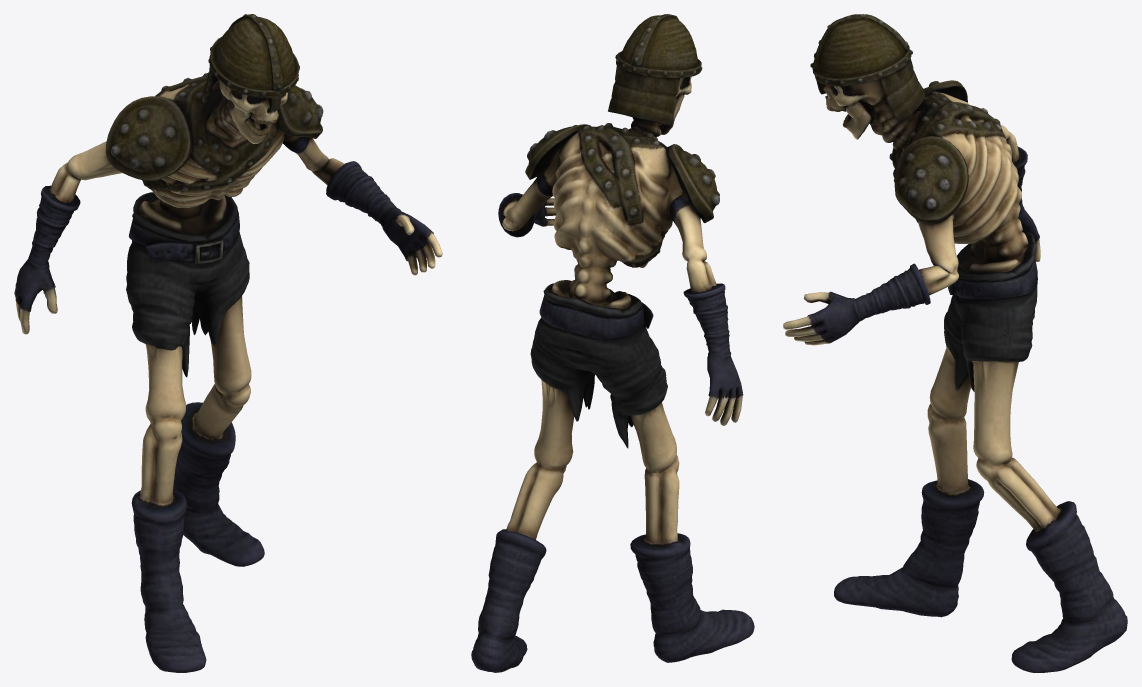
Rendered from MZ4250 - Skeleton_alt.glb.
3 renders of one model, left to right at view 1: azimuth 30°, elevation 25°; view 2: azimuth 150°, elevation 25°; view 3: azimuth 270°, elevation 25°, orthographic. The views are drawn at different scales.
Visible parts, largest first — view 1: Skeleton Updated_shambling.001; view 2: Skeleton Updated_shambling.001; view 3: Skeleton Updated_shambling.001.
Boxes of the visible parts, x1,y1,x2,y2 form: Skeleton Updated_shambling.001: (14, 14, 442, 672); Skeleton Updated_shambling.001: (471, 14, 754, 672); Skeleton Updated_shambling.001: (783, 14, 1127, 672).
Bounding box in the file's own units: 45.16 × 87.02 × 43.51.
Materials: 1 (1 with a texture image).
